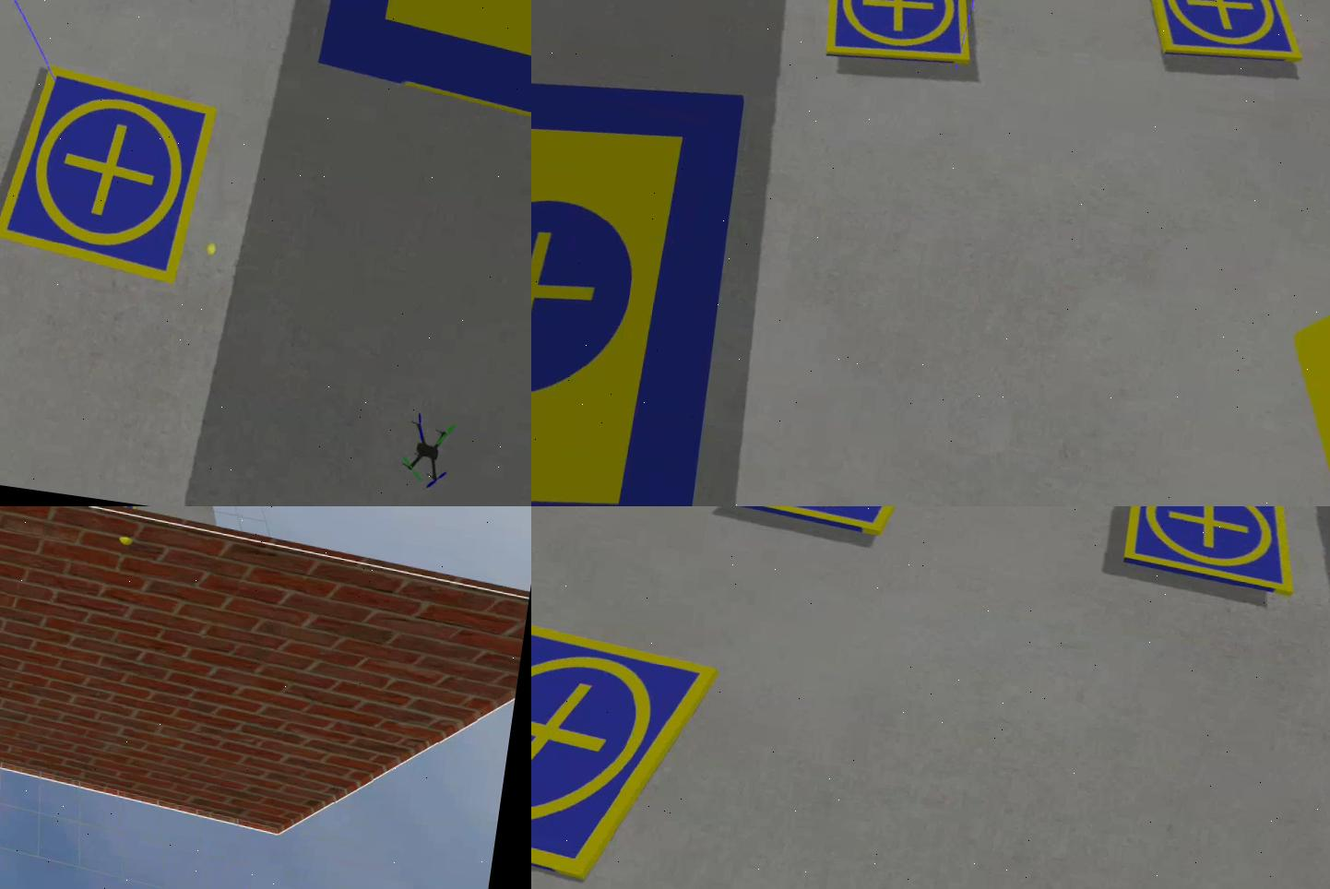large_base: (532, 33, 754, 507)
small_base: (1, 59, 222, 292), (532, 621, 718, 889), (1118, 507, 1309, 599), (1133, 1, 1314, 77), (814, 1, 988, 76), (724, 507, 929, 543), (78, 507, 139, 513)
